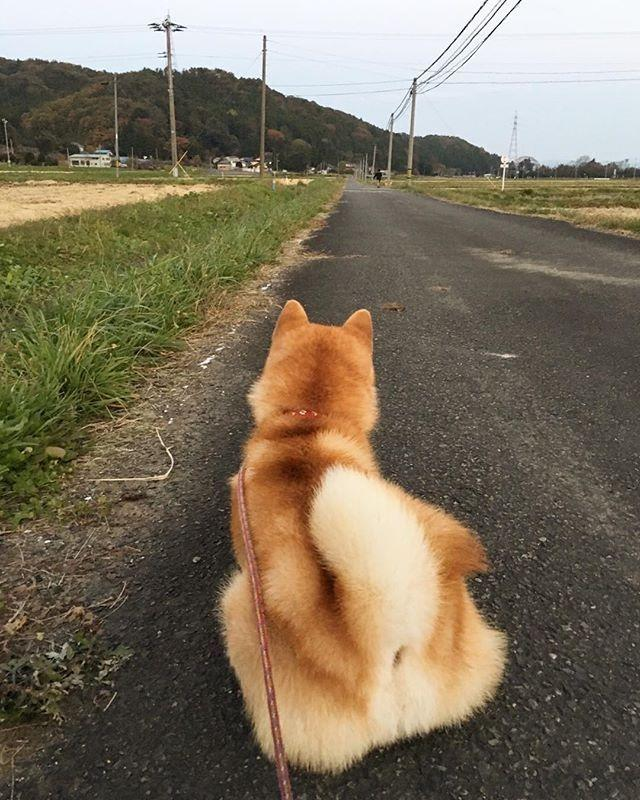adult_dog: (219, 298, 511, 780)
